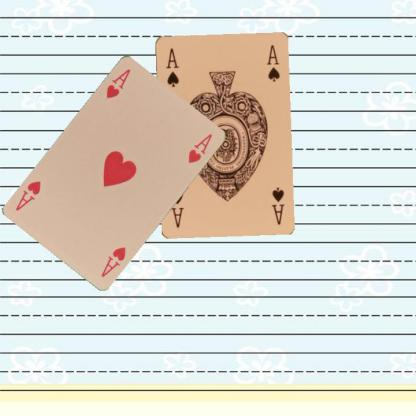Ah: (98, 243, 127, 278), (103, 66, 132, 99)
As: (268, 184, 286, 226), (164, 45, 180, 88)
